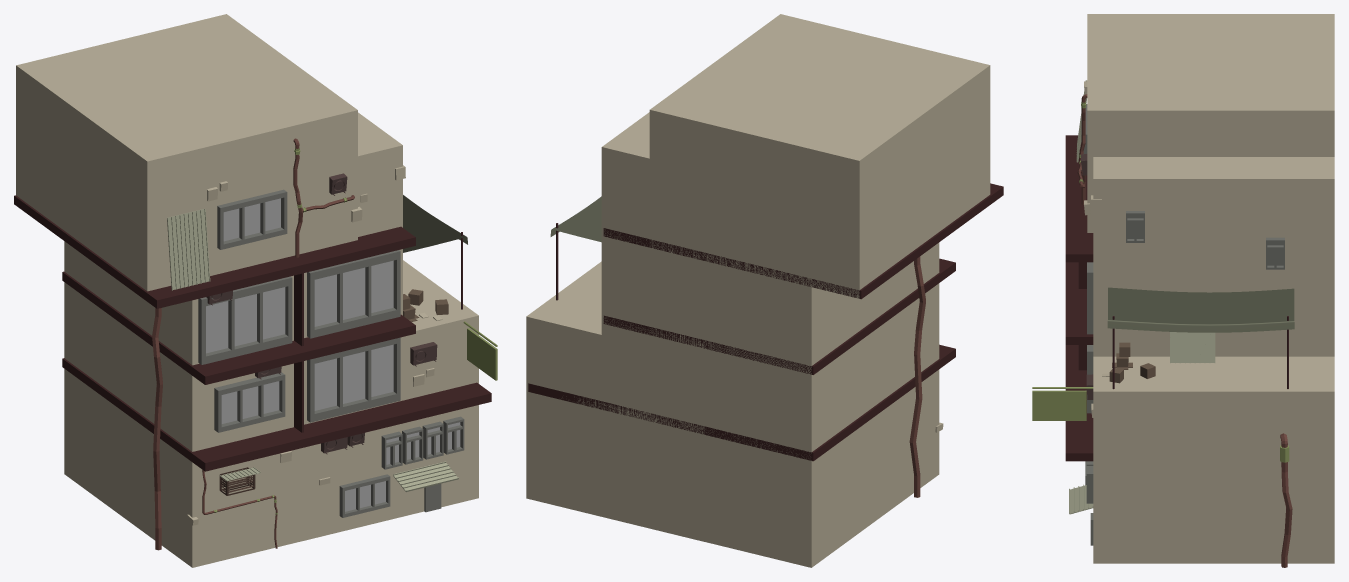
The model's file is Building_01.fbx.
3 renders of one model, left to right at view 1: azimuth 30°, elevation 25°; view 2: azimuth 150°, elevation 25°; view 3: azimuth 270°, elevation 25°, orthographic. The views are drawn at different scales.
Visible parts, largest first — view 1: polySurface756, polySurface752, polySurface786, polySurface754, polySurface794, polySurface807, polySurface785, polySurface799, polySurface747, stick_blanket_L, polySurface767, polySurface884 (+3 smaller); view 2: polySurface756, polySurface752, polySurface884, stick_blanket_L; view 3: polySurface756, stick_blanket_L, polySurface752, polySurface854, polySurface795, polySurface758, polySurface848, polySurface880, polySurface768, polySurface786, polySurface856, box_pile_S.
Part boxes in pixels (<box>): polySurface756: <box>16,14,478,567</box>; polySurface752: <box>14,195,491,471</box>; polySurface786: <box>307,250,400,338</box>; polySurface754: <box>198,276,292,364</box>; polySurface794: <box>307,337,400,422</box>; polySurface807: <box>214,372,285,432</box>; polySurface785: <box>217,189,287,249</box>; polySurface799: <box>381,416,464,469</box>; polySurface747: <box>167,209,210,290</box>; stick_blanket_L: <box>403,195,467,309</box>; polySurface767: <box>339,474,390,517</box>; polySurface884: <box>152,308,162,550</box>; polySurface756: <box>526,14,990,567</box>; polySurface752: <box>528,183,1003,461</box>; polySurface884: <box>909,256,925,497</box>; stick_blanket_L: <box>550,196,601,300</box>; polySurface756: <box>1087,14,1334,563</box>; stick_blanket_L: <box>1107,287,1294,389</box>; polySurface752: <box>1065,135,1093,461</box>; polySurface854: <box>1032,390,1086,420</box>; polySurface795: <box>1170,332,1215,363</box>; polySurface758: <box>1280,433,1292,567</box>; polySurface848: <box>1266,237,1284,269</box>; polySurface880: <box>1126,211,1144,242</box>; polySurface768: <box>1069,484,1093,514</box>; polySurface786: <box>1087,262,1093,334</box>; polySurface856: <box>1079,94,1087,204</box>; box_pile_S: <box>1112,342,1132,369</box>.
Bounding box in the file's own units: 114 × 132 × 91.03.
